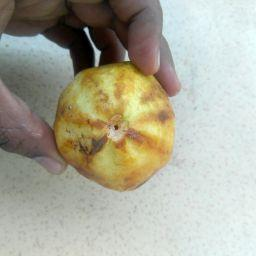guava: (50, 61, 184, 195)
